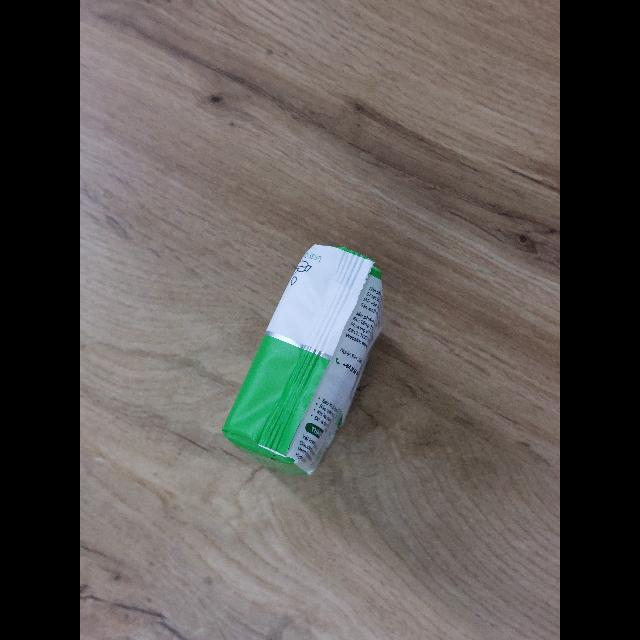khan_giay: (221, 244, 384, 478)
